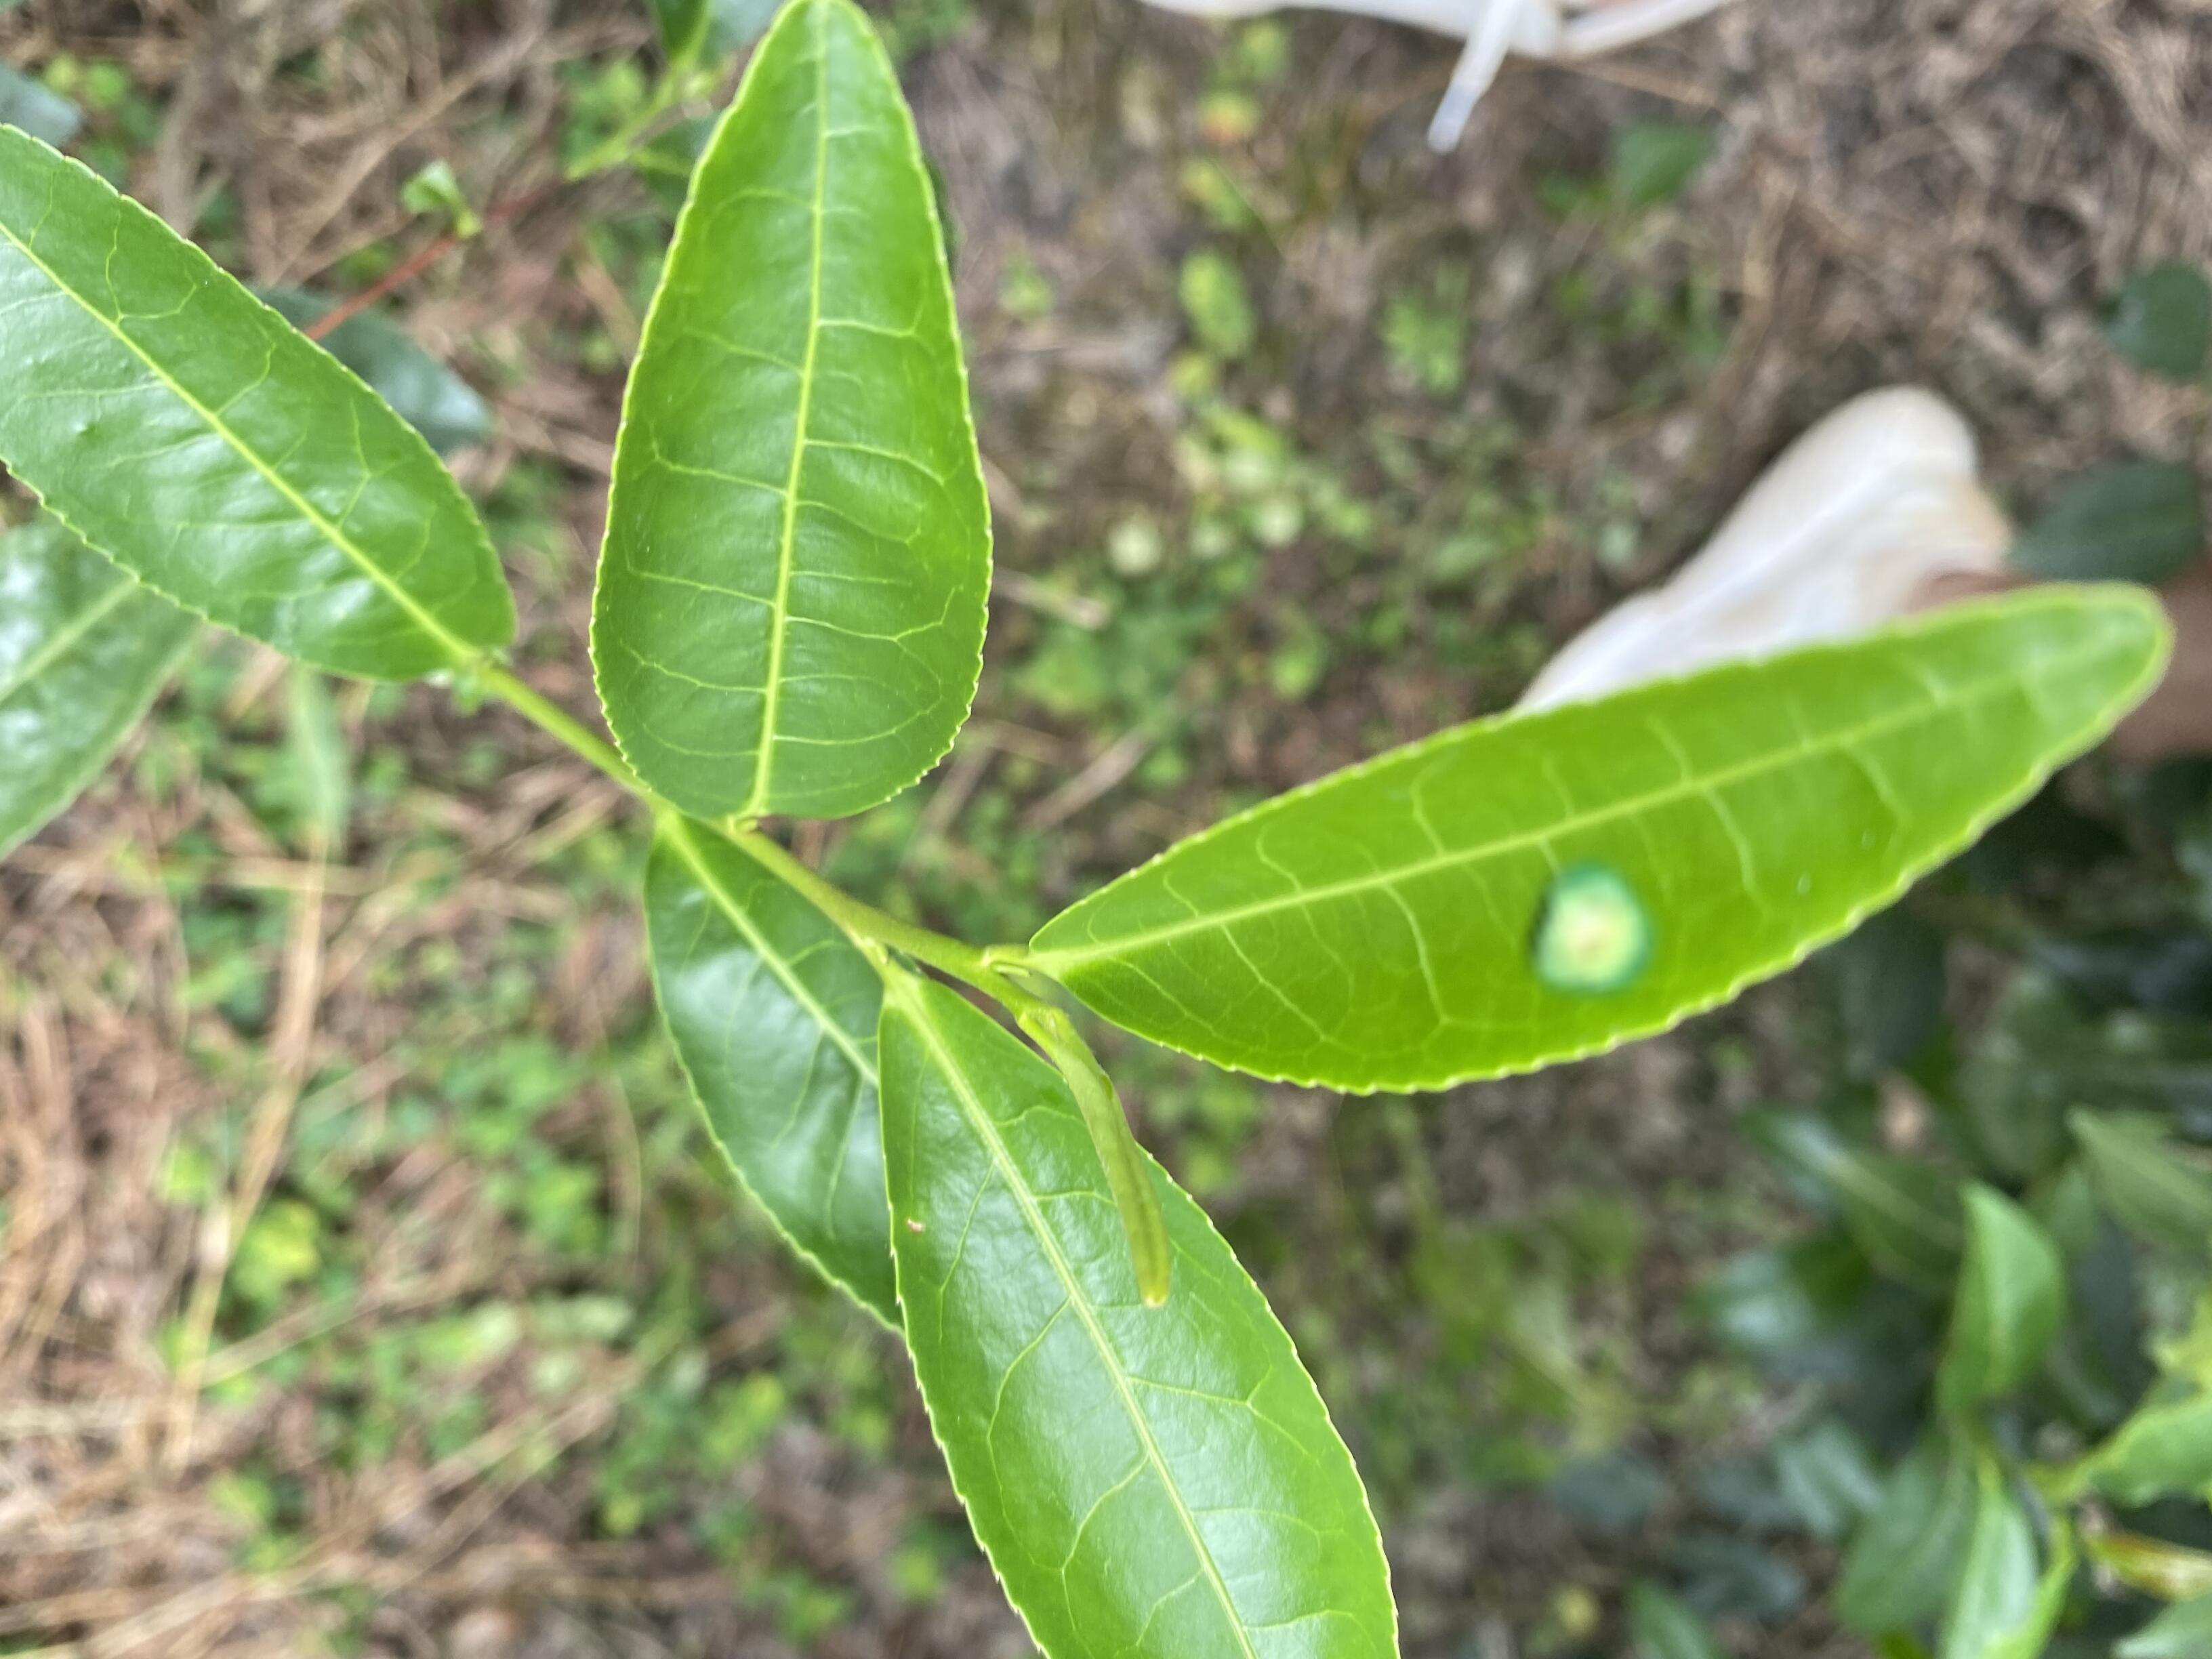chabing_low: (1042, 577, 2163, 1107)
healthy: (876, 979, 1400, 1659), (587, 2, 993, 829), (3, 122, 523, 687), (639, 817, 904, 1338)
